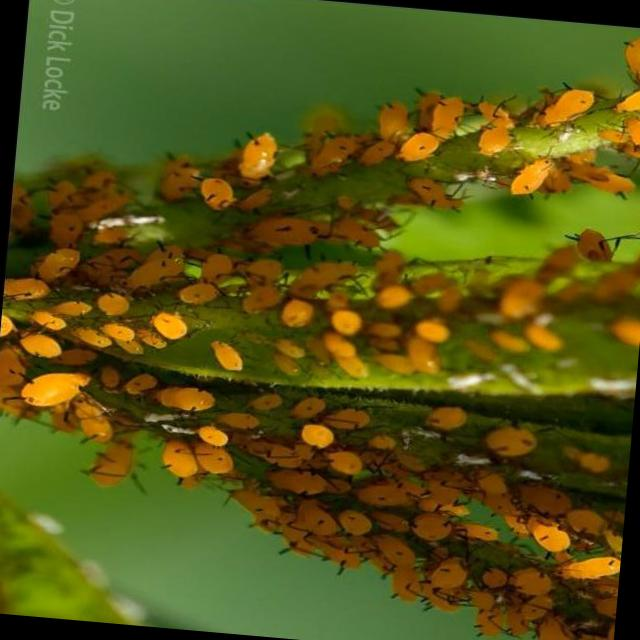aphid: (2, 354, 105, 420), (521, 75, 611, 137), (471, 415, 554, 469), (492, 145, 560, 210), (222, 118, 284, 186), (189, 326, 260, 382), (122, 240, 188, 296), (380, 119, 448, 172), (286, 256, 363, 302), (540, 542, 621, 585), (243, 211, 323, 253), (464, 114, 522, 164), (176, 166, 234, 216), (136, 302, 202, 344), (402, 174, 470, 214), (520, 513, 584, 555), (444, 510, 506, 553), (84, 278, 144, 322), (164, 270, 229, 310), (270, 286, 324, 334), (316, 296, 368, 344), (512, 480, 574, 520), (158, 152, 205, 204), (325, 212, 385, 252), (308, 132, 362, 176), (414, 402, 478, 438), (318, 332, 368, 378), (267, 464, 331, 498), (496, 276, 543, 321), (182, 419, 246, 452), (14, 328, 76, 362), (291, 412, 347, 448), (34, 244, 82, 286), (577, 168, 637, 200), (427, 93, 467, 139), (155, 384, 215, 414), (159, 438, 201, 480), (46, 208, 88, 250), (570, 226, 616, 264), (562, 506, 610, 540), (560, 444, 612, 474), (404, 334, 442, 374), (375, 99, 411, 141), (320, 404, 370, 433), (4, 274, 52, 304), (0, 346, 29, 393), (523, 322, 564, 353), (532, 613, 577, 640), (374, 283, 412, 312), (324, 448, 363, 476), (608, 316, 640, 348), (290, 394, 326, 422), (215, 410, 259, 432), (413, 317, 450, 343), (28, 310, 68, 332), (124, 371, 158, 396), (100, 321, 136, 344), (613, 87, 640, 115), (248, 391, 282, 413), (271, 351, 300, 376), (622, 117, 640, 151), (367, 432, 396, 452), (0, 313, 18, 339)
